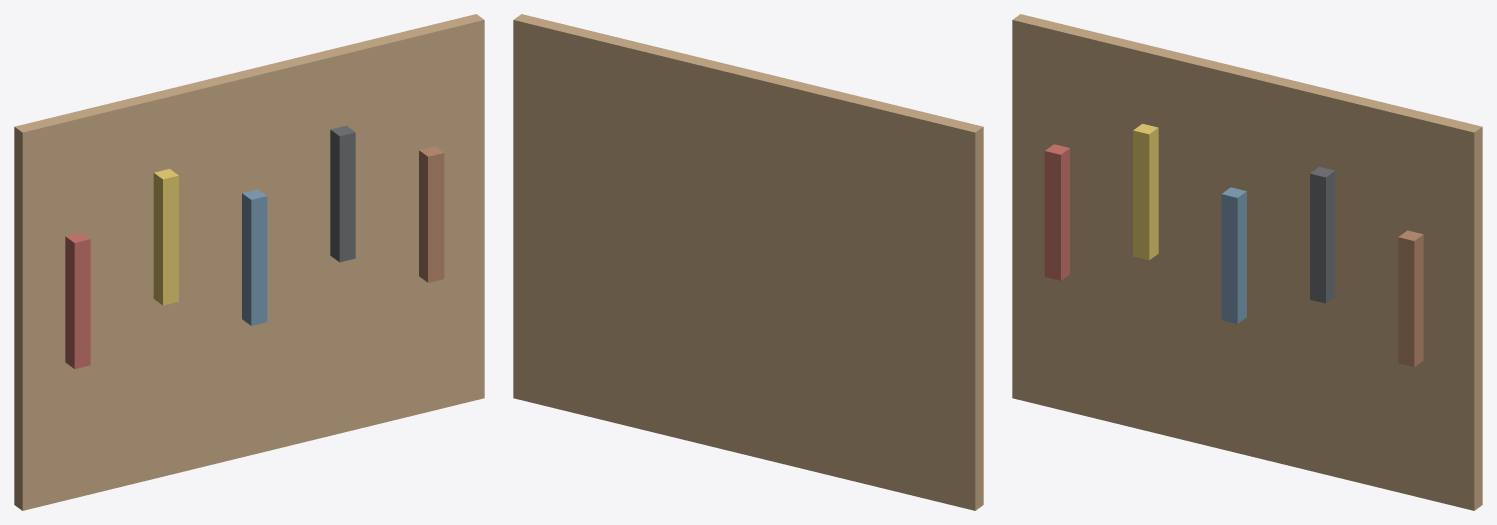
Rendered from pegboard_01.glb.
3 views of the same model, side by side, from view 1: azimuth 30°, elevation 25°; view 2: azimuth 150°, elevation 25°; view 3: azimuth 330°, elevation 25° (orthographic).
Visible parts, largest first — view 1: board, tool0, tool1, tool3, tool4, tool2; view 2: board; view 3: board, tool0, tool1, tool3, tool4, tool2.
Part boxes in pixels (x1=…): board: x1=14, y1=14, x2=484, y2=510; tool0: x1=65, y1=232, x2=90, y2=368; tool1: x1=153, y1=169, x2=178, y2=305; tool3: x1=330, y1=125, x2=355, y2=262; tool4: x1=419, y1=146, x2=444, y2=282; tool2: x1=242, y1=189, x2=267, y2=325; board: x1=513, y1=14, x2=983, y2=510; board: x1=1012, y1=14, x2=1482, y2=510; tool0: x1=1044, y1=144, x2=1069, y2=280; tool1: x1=1133, y1=123, x2=1158, y2=260; tool3: x1=1310, y1=167, x2=1335, y2=303; tool4: x1=1398, y1=230, x2=1423, y2=366; tool2: x1=1221, y1=187, x2=1246, y2=323.
Bounding box in the file's own units: 1.15 × 0.9 × 0.0775.
